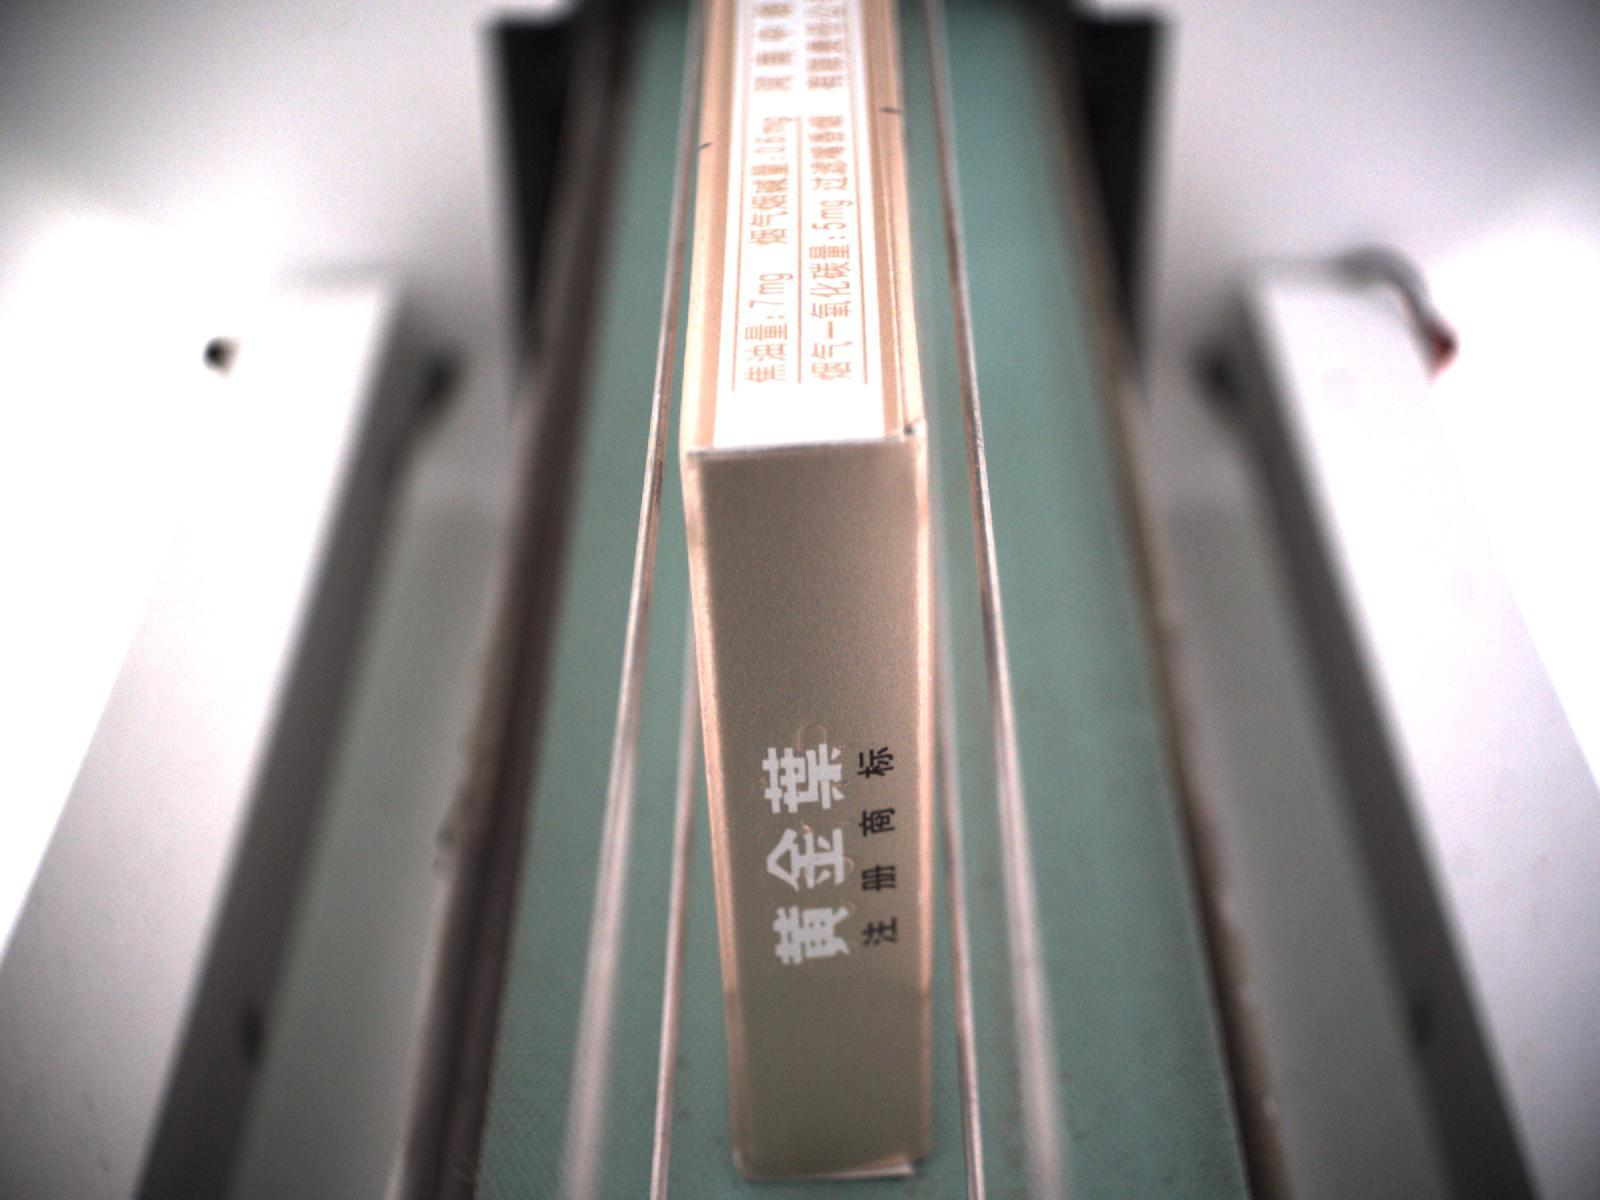skewed_bottom_3: (740, 1151, 927, 1184)
skewed_upper_3: (863, 5, 926, 446)
